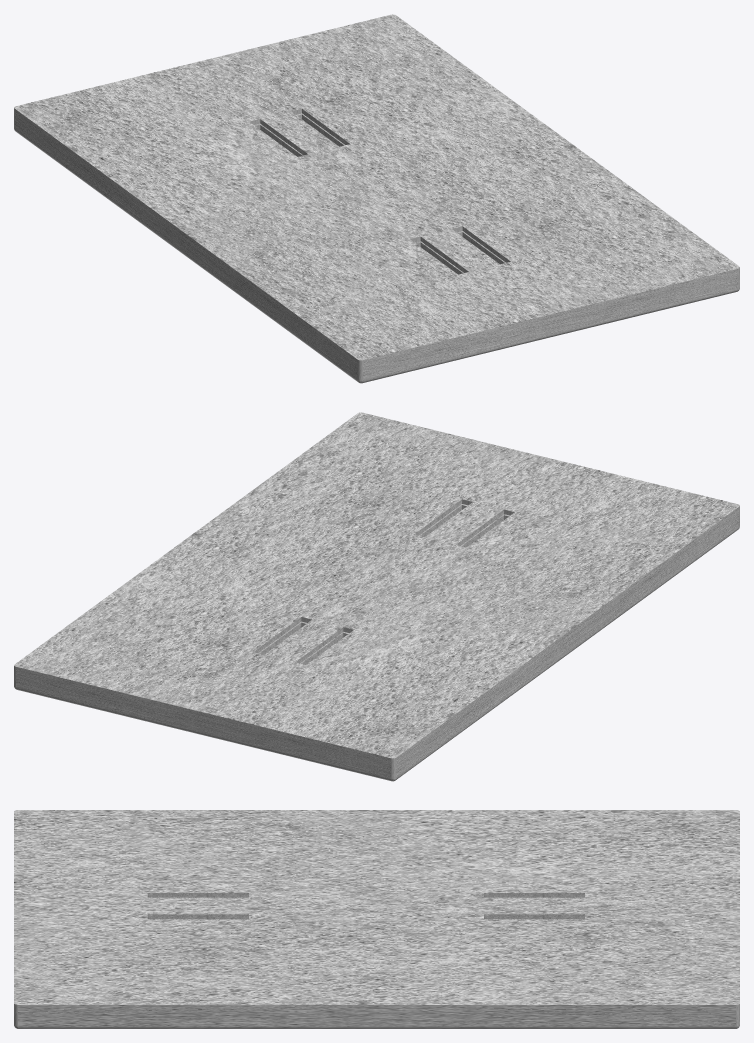
The model's file is enchunfe.dae.
3 renders of one model, top to bottom at view 1: azimuth 30°, elevation 25°; view 2: azimuth 150°, elevation 25°; view 3: azimuth 270°, elevation 25°, orthographic. The views are drawn at different scales.
Visible parts, largest first — view 1: node; view 2: node; view 3: node.
Boxes of the visible parts, box(x1,y1,x2,y2) form: node: box(14, 14, 739, 383); node: box(14, 412, 739, 781); node: box(14, 810, 739, 1028).
Size of the model in its own units: 115 by 7 by 181.
Materials: 1 (1 with a texture image).
